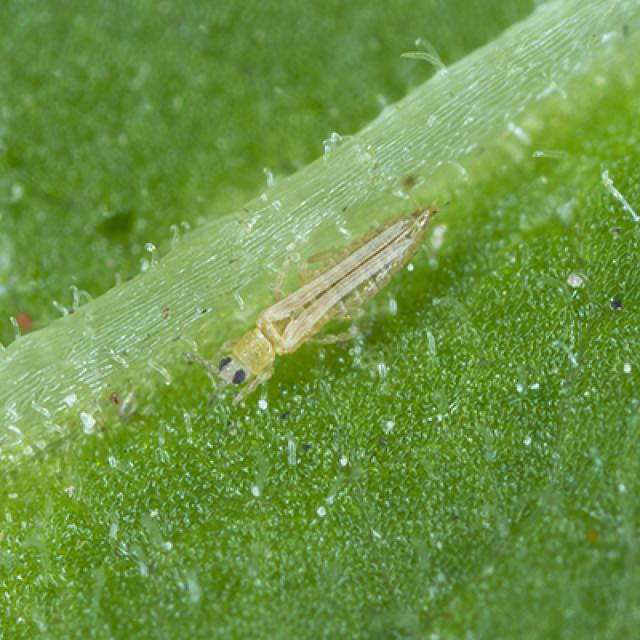Thrip-Adult-: (195, 194, 450, 406)
